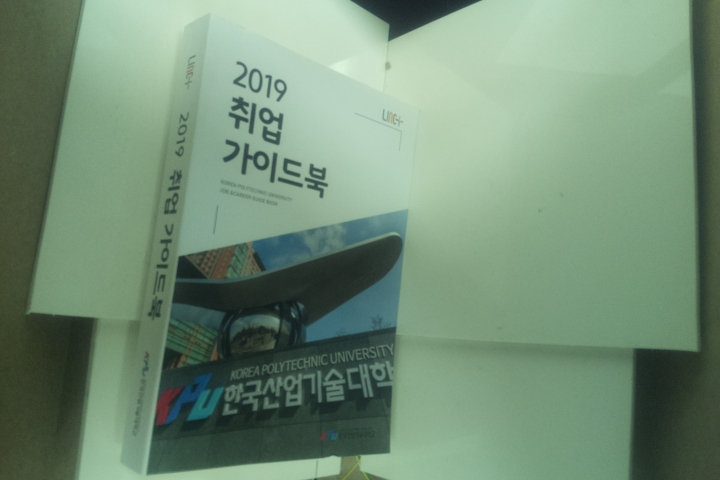book: (118, 13, 429, 480)
